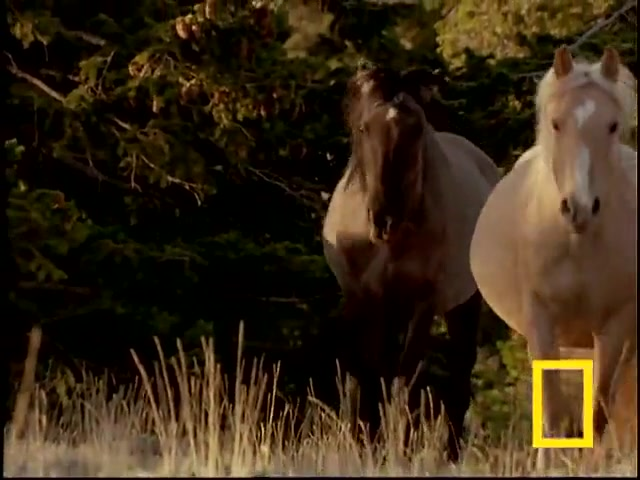horse: (470, 43, 640, 458)
